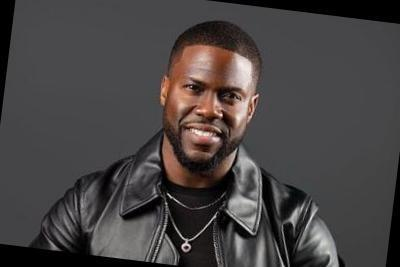Sober: (172, 44, 247, 158)
